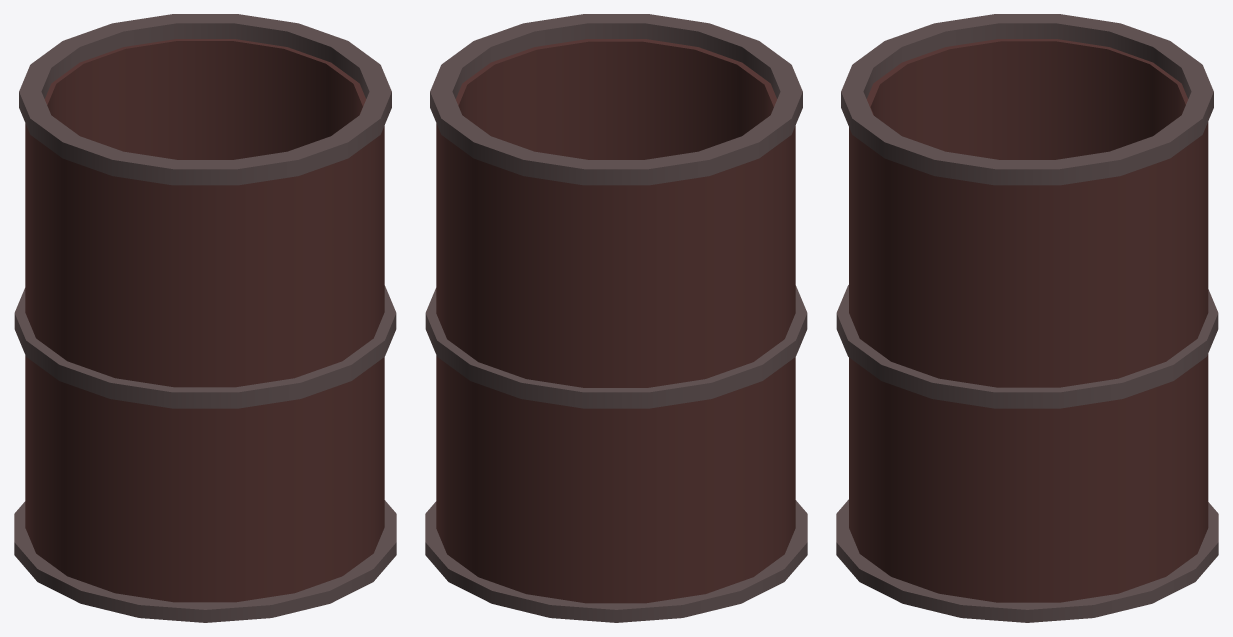
Rendered from FactoryBarrelBigger2.FBX.
3 renders of one model, left to right at view 1: azimuth 30°, elevation 25°; view 2: azimuth 150°, elevation 25°; view 3: azimuth 270°, elevation 25°, orthographic.
Parts seen in each view (by area): view 1: Tube001, Tube004, Tube003, Cylinder001; view 2: Tube001, Tube004, Tube003, Cylinder001; view 3: Tube001, Tube004, Tube003, Cylinder001.
Boxes of the visible parts, x1,y1,x2,y2 form: Tube001: (25, 39, 384, 602); Tube004: (19, 14, 391, 185); Tube003: (14, 285, 396, 408); Cylinder001: (14, 500, 396, 622); Tube001: (436, 39, 795, 603); Tube004: (430, 14, 802, 185); Tube003: (425, 285, 807, 408); Cylinder001: (425, 500, 807, 622); Tube001: (849, 39, 1208, 602); Tube004: (841, 14, 1213, 185); Tube003: (836, 285, 1218, 408); Cylinder001: (836, 499, 1218, 622).
Bounding box in the file's own units: 85.04 × 109 × 83.75.
